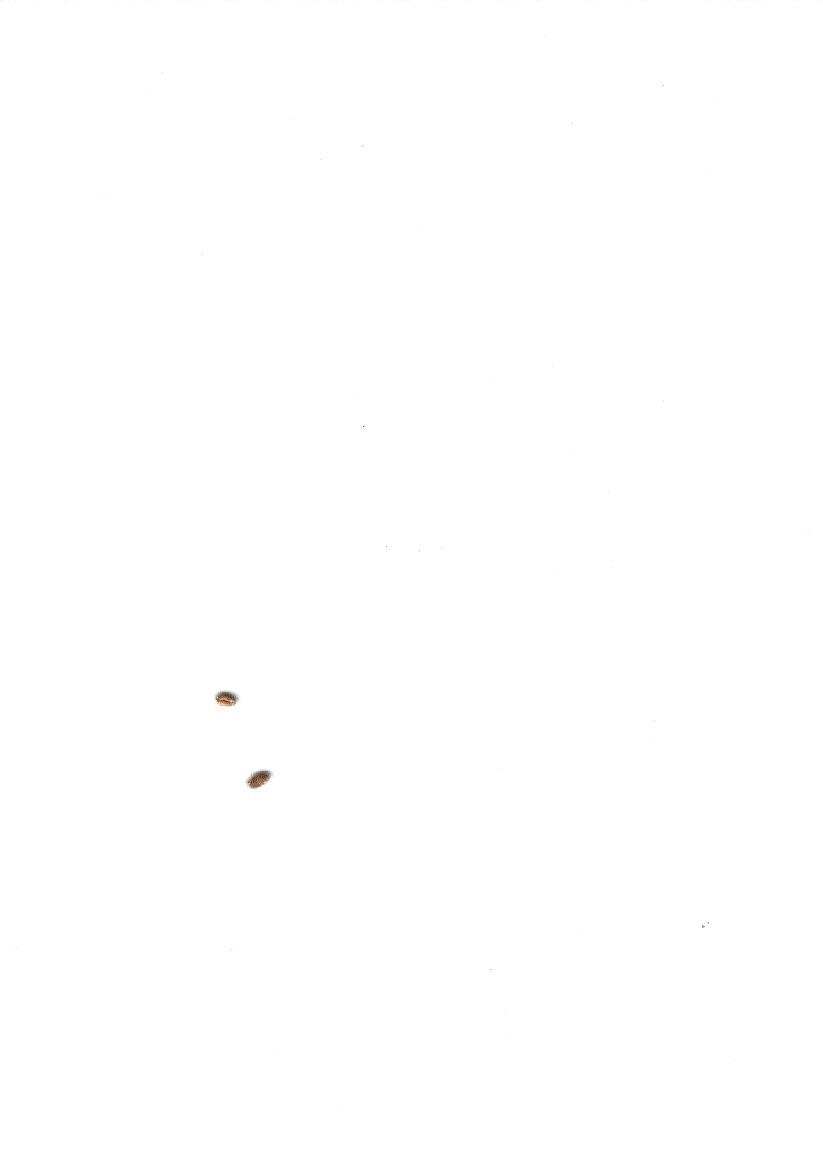grains: (211, 677, 244, 721), (240, 762, 276, 799)
